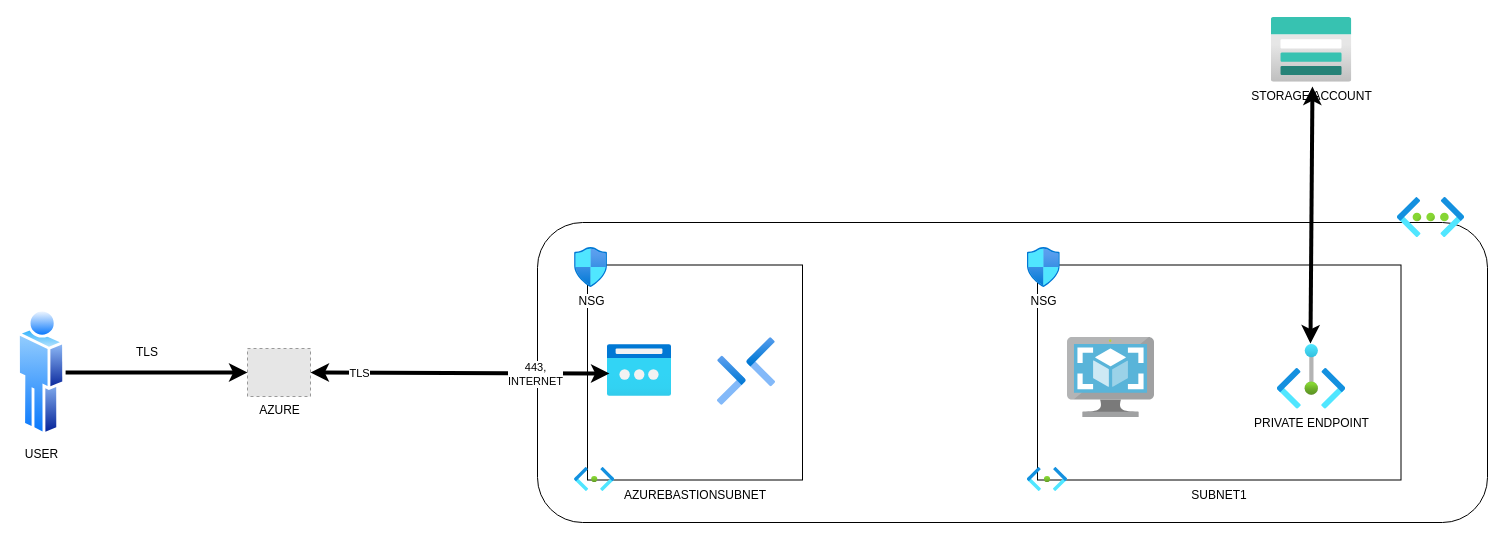
Some shapes in this 1505 by 540 pixel diagram are drawn without their labels. Grey dashed boxes stand in for pictures. Here are the shapes that lost their labels. From the top down, the centre of each, then its label:
At point (639, 370): "PUBLIC IP".
At point (746, 371): "BASTION".
At point (1110, 377): "VM1".
